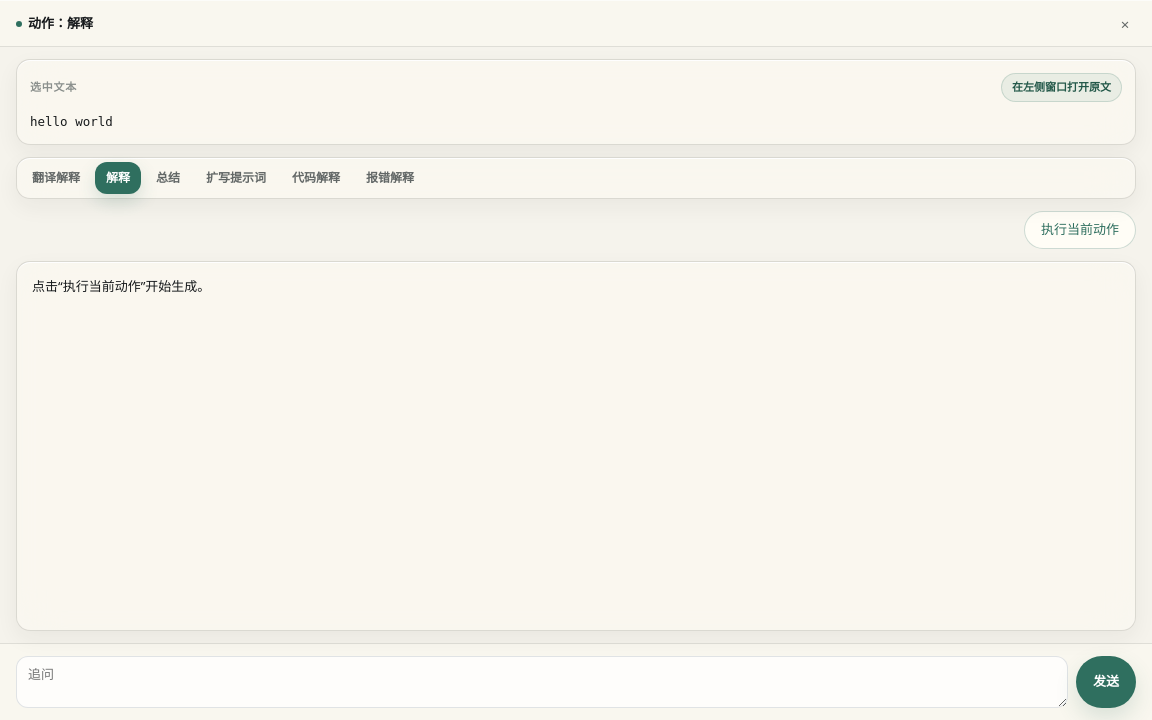
Test: AiPanel Tauri event lifecycle › stops loading and shows an error when a stream request times out
What coordinates should you click on to do the following:
click the button "执行当前动作"
I would click on:
 (1080, 230)
Its box is [1024,211,1136,249].
Wait 60000 ms
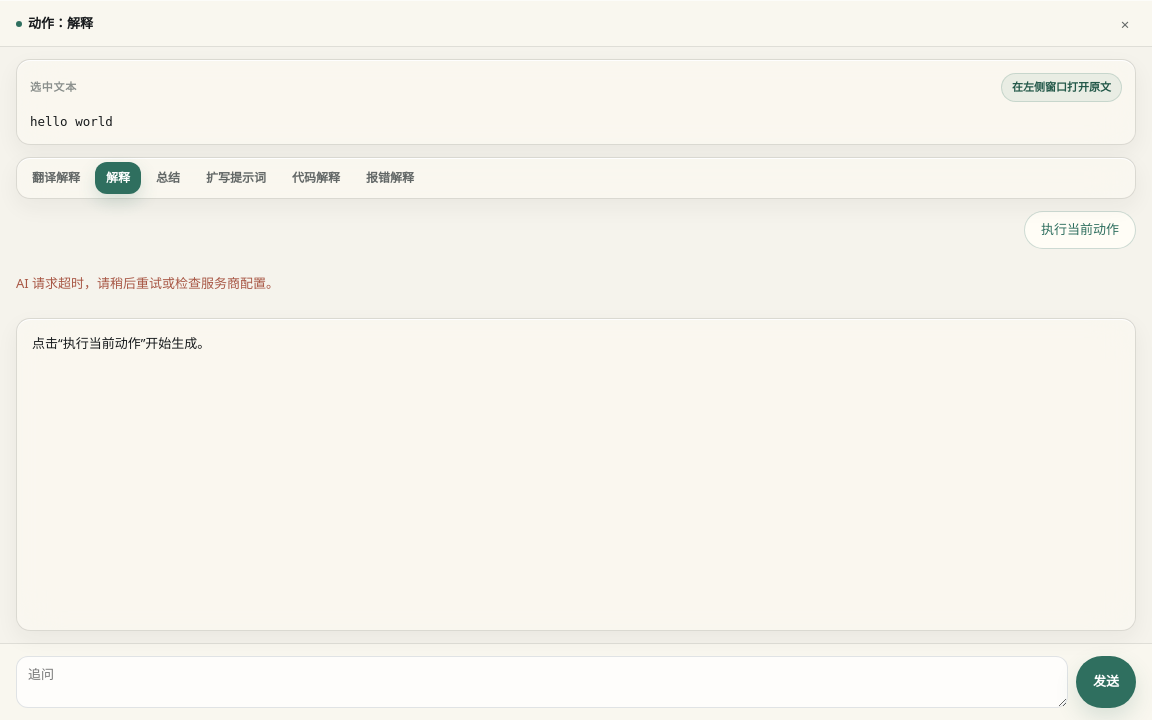
Check: the text "生成中" is shown, box [16,318,1136,631]
Check: the message reads "AI 请求超时，请稍后重试或检查服务商配置。", box [16,274,279,292]
